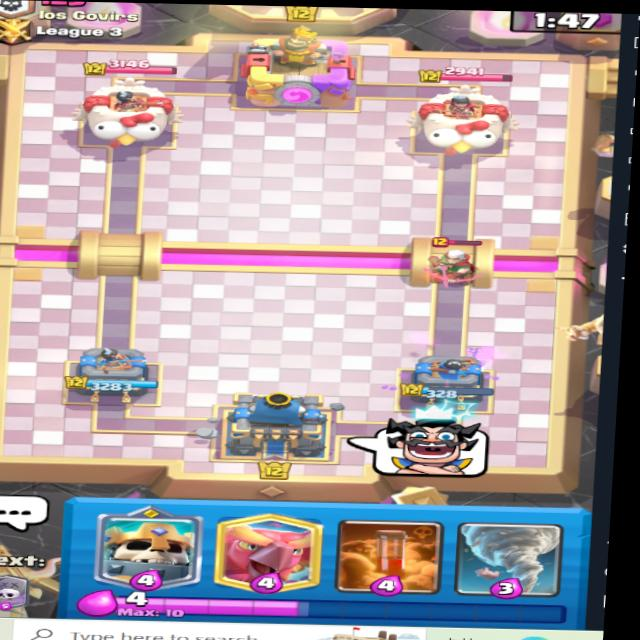magic-archer: (405, 237, 487, 290)
